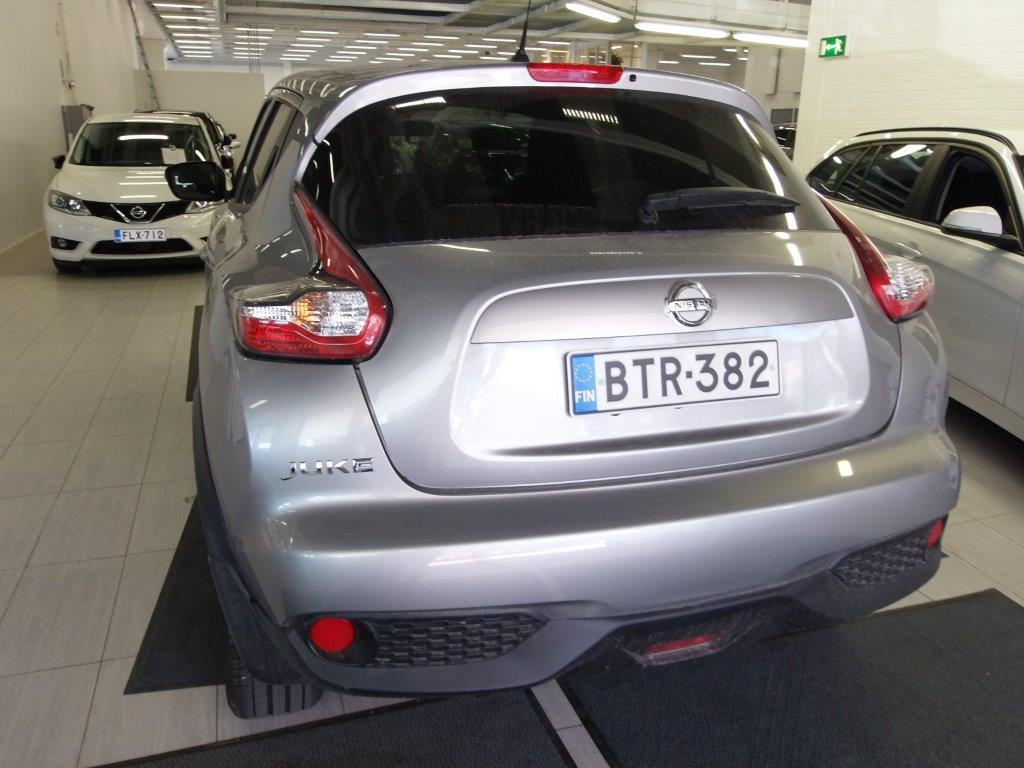license: (560, 337, 779, 411)
